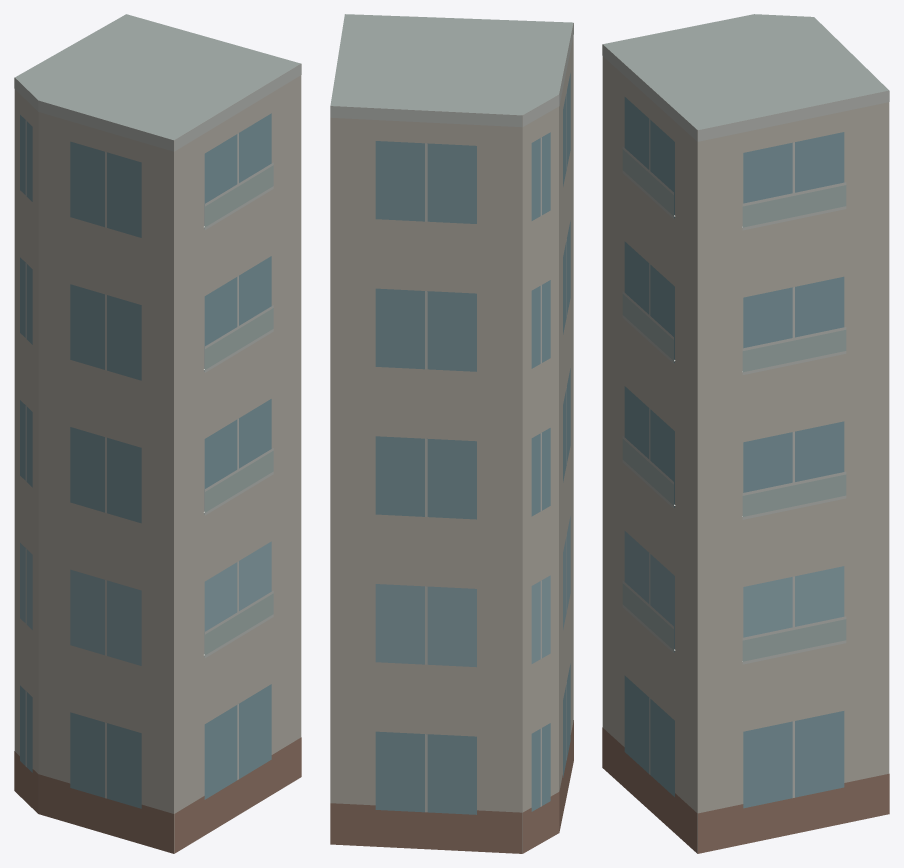
File: survey-upis-32688589.glb
The picture shows the model from 3 angles, left to right: view 1: azimuth 30°, elevation 25°; view 2: azimuth 150°, elevation 25°; view 3: azimuth 270°, elevation 25°; orthographic projection. The views are drawn at different scales.
Visible parts, largest first — view 1: survey-upis-32688589.tmp; view 2: survey-upis-32688589.tmp; view 3: survey-upis-32688589.tmp.
Boxes of the visible parts, x1,y1,x2,y2 form: survey-upis-32688589.tmp: (14,14,301,853); survey-upis-32688589.tmp: (330,14,573,853); survey-upis-32688589.tmp: (602,14,889,853).
Size of the model in its own units: 5.27 by 15.25 by 5.49.
